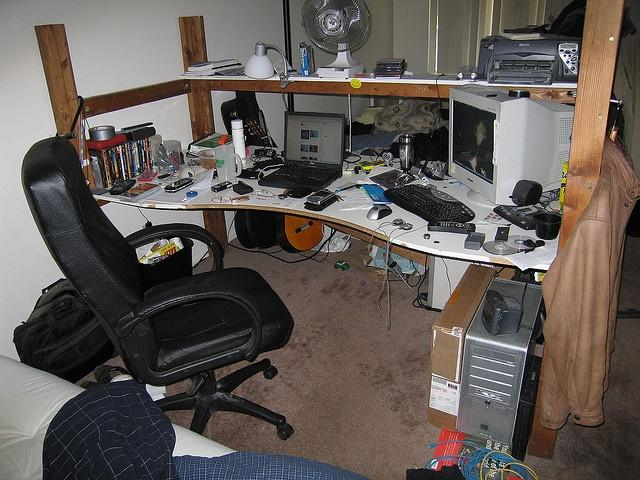Kursi: (19, 136, 294, 445)
Printer: (474, 31, 582, 84)
